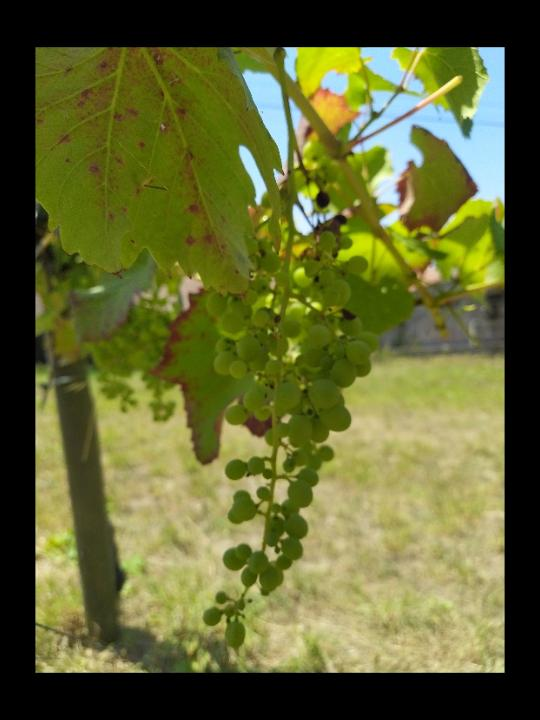grape: (203, 227, 379, 649)
